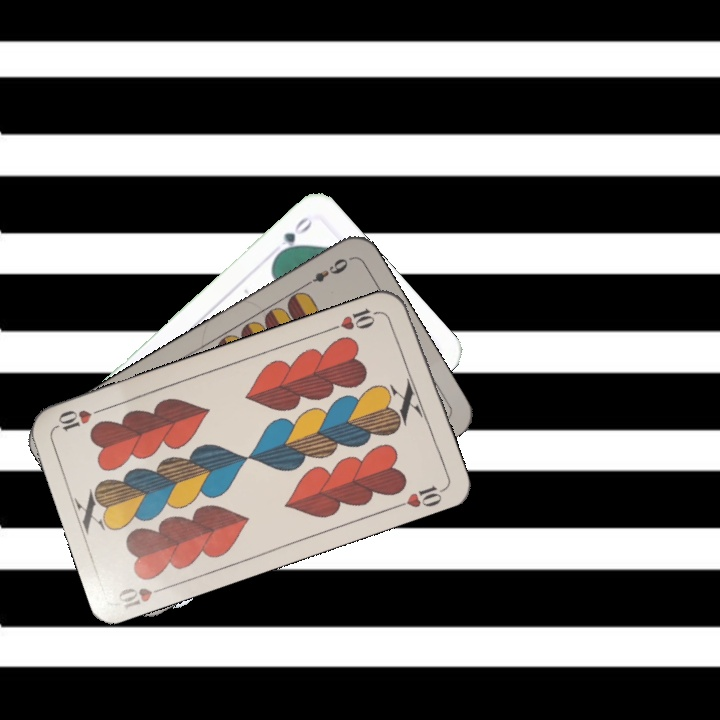E9: (299, 254, 351, 290)
GO: (271, 212, 315, 260)
H10: (114, 581, 172, 612), (327, 303, 384, 333)
